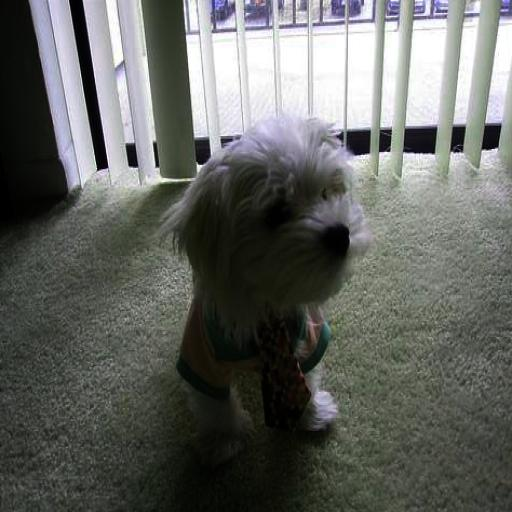dog_face: (176, 112, 366, 331)
